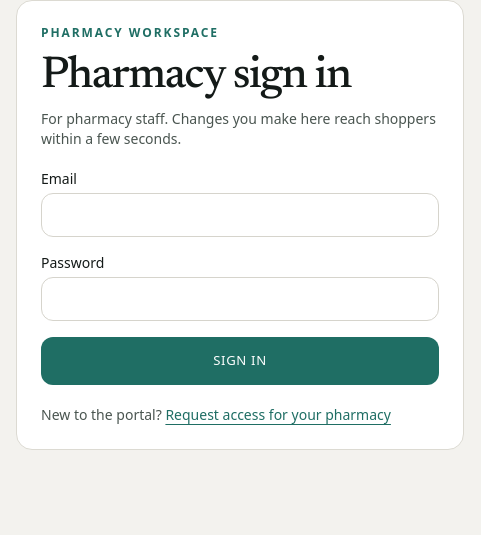
Test: PortalPage › shows the server's message when the sign-in is refused
The image size is (481, 535).
Type "a@b.test" into the field labelled "Email" at (240, 215), box [41,193,439,237]
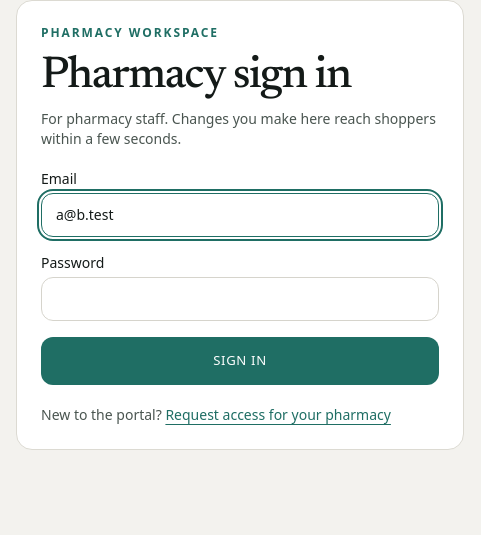
Type "nope" into the password field labelled "Password" at (240, 299), box [41,277,439,321]
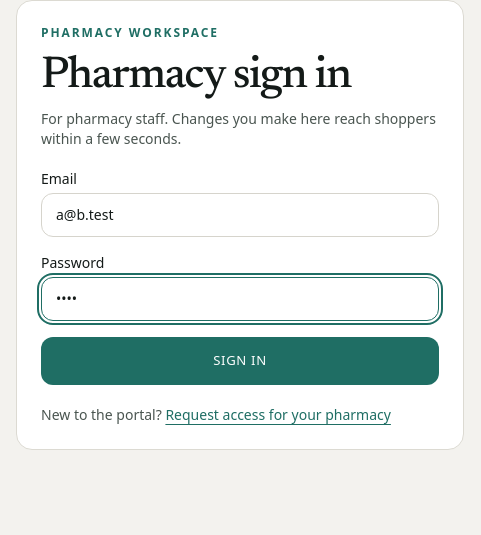
Click the button "Sign in" at (240, 361), box [41,337,439,385]
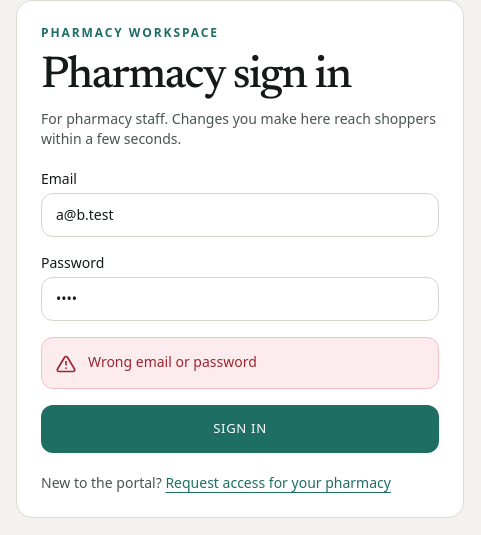
Expected: the message reads "Wrong email or password", [88,352,257,371]
